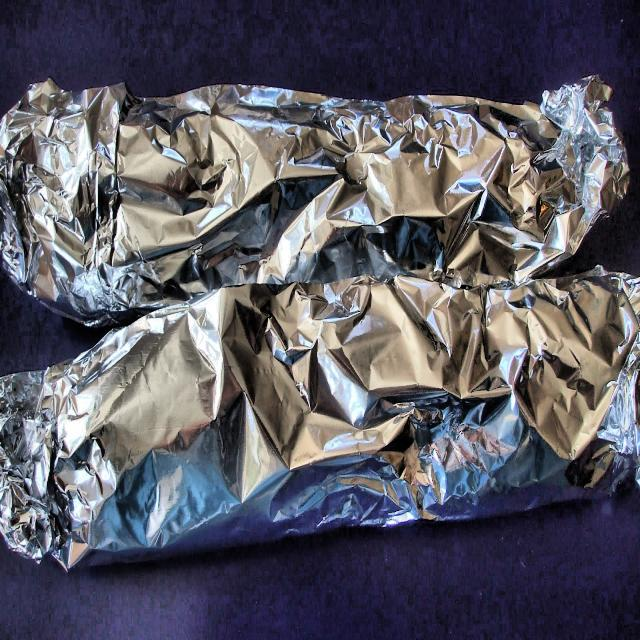Foil: (0, 58, 640, 585)
